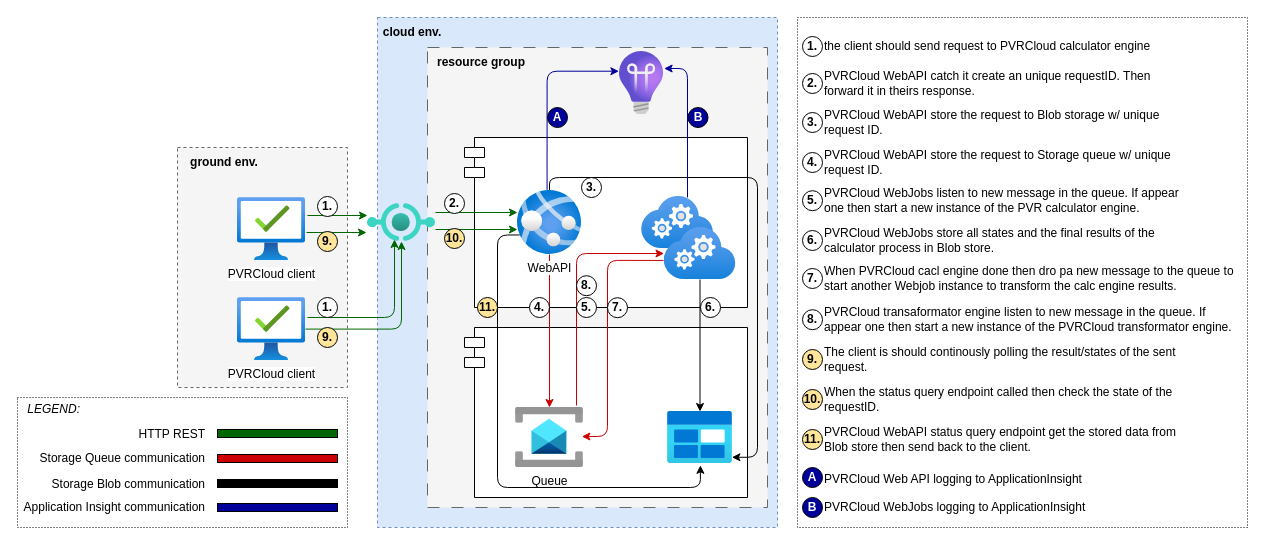
Image size: 1265x545. Some labels were removed from this diagram. The box of each missing label's shape, as (x1, y1, x2, y2) in pixels:
app insight: (619, 51, 663, 114)
Blob store: (667, 411, 732, 463)
PVRCloud AppService: (464, 136, 748, 308)
PVRCloud Storage and queue services: (464, 326, 748, 498)
WebJobs: (664, 227, 736, 279)
